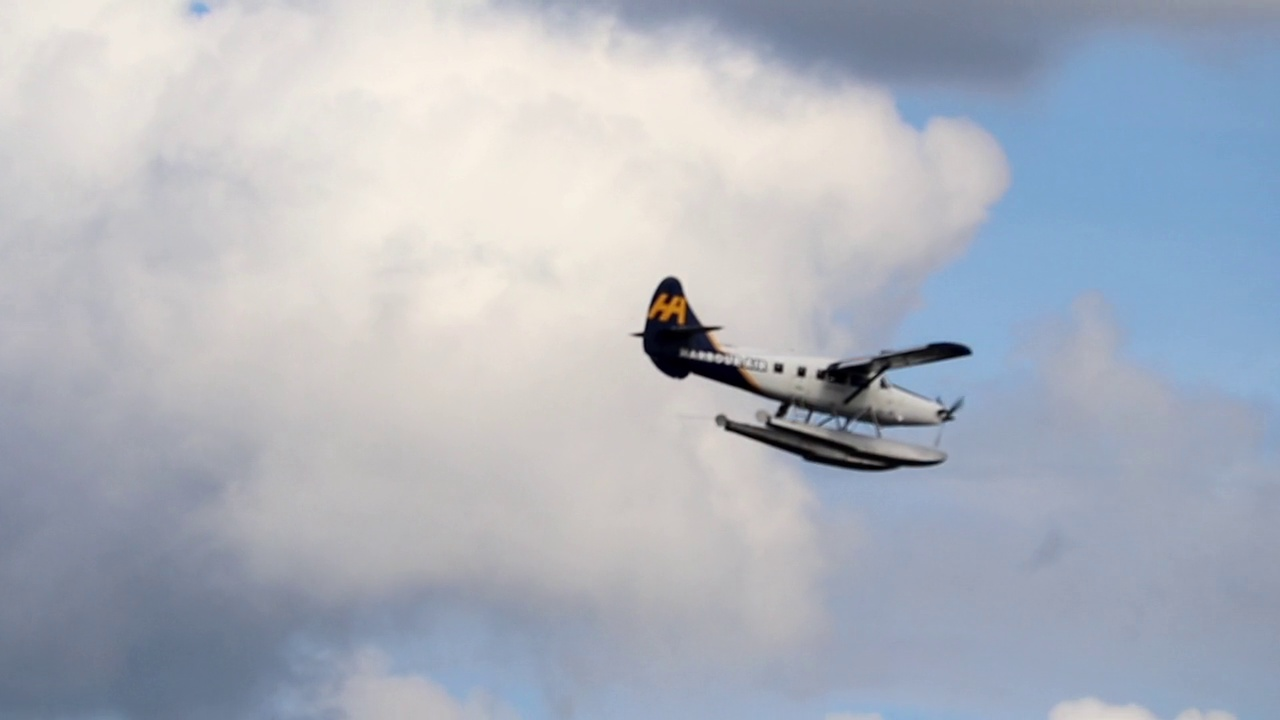plane: (631, 276, 973, 470)
